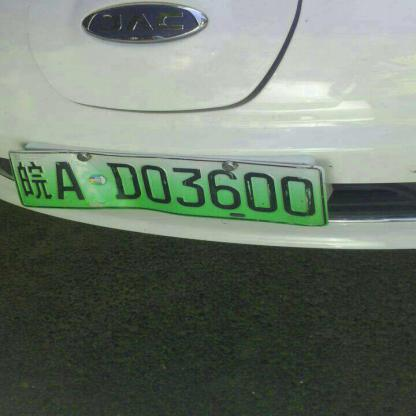lp: (8, 151, 324, 225)
